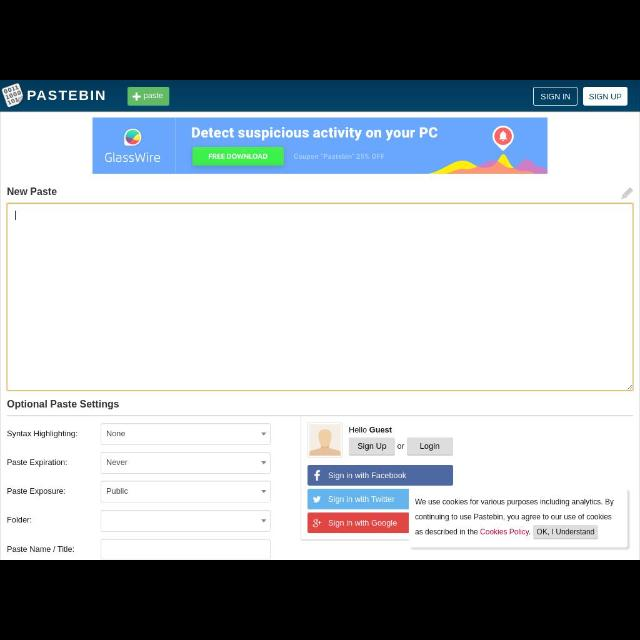icon: (620, 188, 634, 200), (133, 92, 141, 101), (261, 431, 267, 437), (262, 460, 266, 466), (262, 489, 266, 495), (261, 519, 267, 523)
iframe: (94, 118, 548, 174)
image: (2, 82, 106, 108), (307, 422, 343, 458), (312, 518, 322, 528), (312, 496, 322, 504), (314, 470, 320, 480)
input: (9, 202, 636, 392), (102, 538, 270, 560)
spinner: (100, 510, 272, 532), (102, 424, 272, 446), (102, 452, 272, 474), (101, 481, 271, 502)
text: (415, 498, 615, 522), (7, 398, 119, 410), (415, 528, 531, 536), (7, 429, 78, 438), (328, 472, 406, 480), (7, 458, 68, 468), (6, 545, 76, 553), (327, 519, 397, 527), (328, 496, 396, 504), (6, 488, 66, 496), (536, 528, 596, 536), (6, 188, 58, 196), (348, 426, 392, 434), (357, 442, 387, 452), (540, 92, 572, 100), (590, 92, 622, 100), (418, 442, 439, 452), (7, 516, 33, 524), (142, 92, 164, 100), (106, 459, 128, 467), (106, 487, 128, 495), (107, 430, 127, 438), (397, 444, 405, 451)
textbutton: (308, 466, 454, 486), (308, 512, 408, 534), (307, 489, 408, 509), (534, 526, 598, 540), (348, 438, 396, 456), (406, 438, 454, 456), (582, 88, 628, 106), (534, 88, 578, 106), (128, 87, 170, 105)
toolbar: (1, 80, 640, 112)
